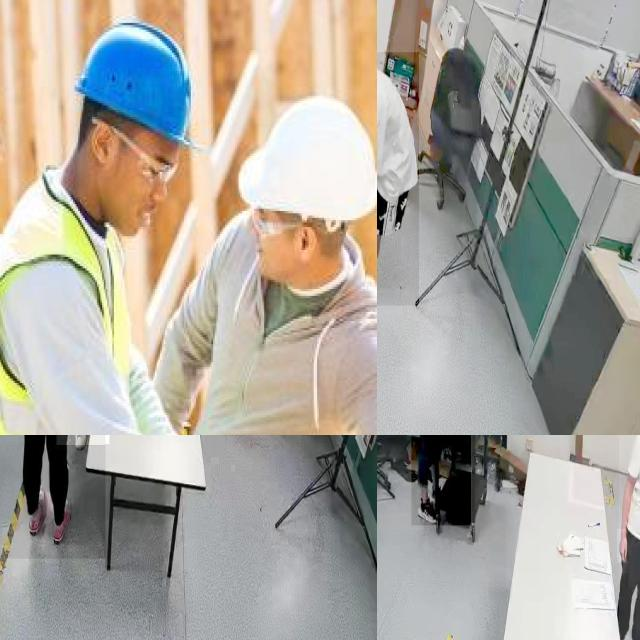No_Ear-Protection: (86, 113, 120, 173), (291, 220, 324, 275)
hand_noglove: (617, 529, 627, 563)
person: (0, 435, 106, 559), (377, 52, 419, 306), (411, 435, 471, 526), (619, 435, 640, 640)
shoes: (25, 482, 48, 538), (49, 493, 73, 546), (416, 496, 440, 526), (71, 435, 88, 454)
